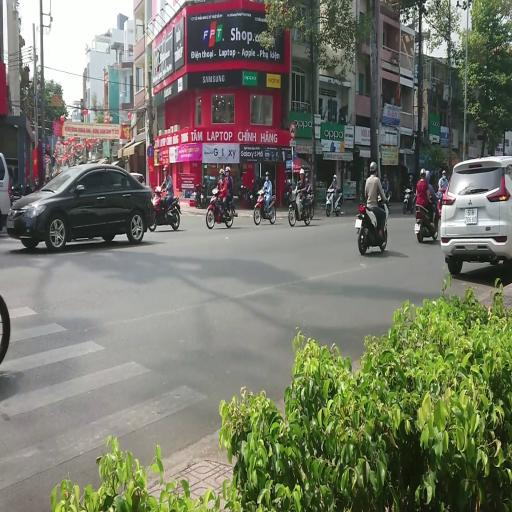bikes: (355, 194, 390, 254), (148, 185, 181, 231), (414, 192, 442, 242), (205, 188, 234, 228), (288, 187, 312, 226), (254, 188, 276, 224), (0, 294, 10, 364), (10, 182, 34, 206), (242, 179, 260, 206), (326, 186, 342, 216), (402, 186, 416, 213), (282, 179, 296, 205), (194, 183, 206, 208), (378, 189, 391, 210), (436, 187, 445, 217), (64, 144, 76, 166), (305, 192, 314, 218), (74, 142, 84, 164), (228, 196, 238, 216), (410, 191, 416, 213), (385, 190, 391, 210)
helmet: (370, 161, 377, 172), (420, 168, 426, 176), (438, 178, 444, 186), (426, 170, 430, 181), (162, 165, 168, 172), (155, 186, 161, 193), (212, 188, 218, 194), (299, 168, 304, 175), (218, 179, 223, 186), (219, 169, 224, 175), (225, 166, 230, 172), (438, 168, 442, 175), (442, 170, 446, 176), (430, 169, 434, 175), (333, 175, 337, 180), (266, 171, 270, 176), (384, 174, 387, 179), (305, 174, 308, 179), (252, 179, 254, 184), (410, 176, 412, 180)
